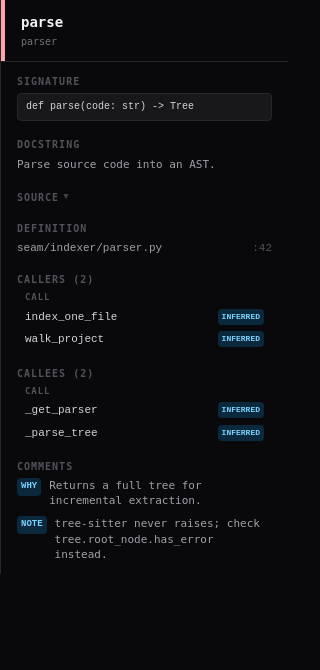
Test: DetailPanel B4 — Source section: stale branch › shows an amber stale note when index_stale is true
expect the heading "parse" is shown: met, box [21,14,63,30]
Click the button "Source ▼" at x=144, y=197, box [17,190,272,205]
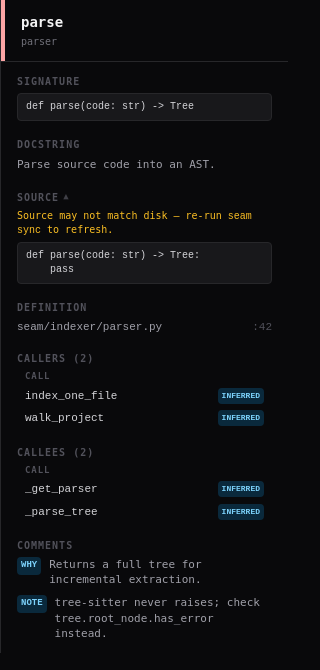
expect the text "Source may not match disk — re-run seam sync to refresh." is shown: met, box [17,209,272,238]
